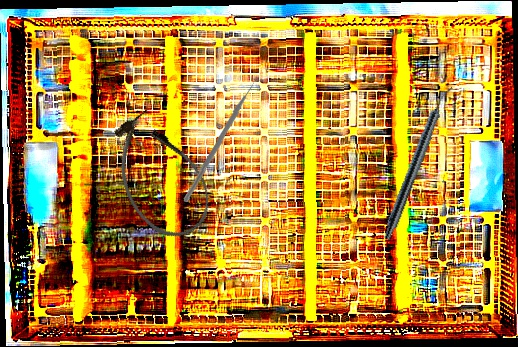Cannula: (95, 101, 224, 251)
Chopper: (179, 79, 271, 202)
Handpiece: (380, 82, 455, 243)
